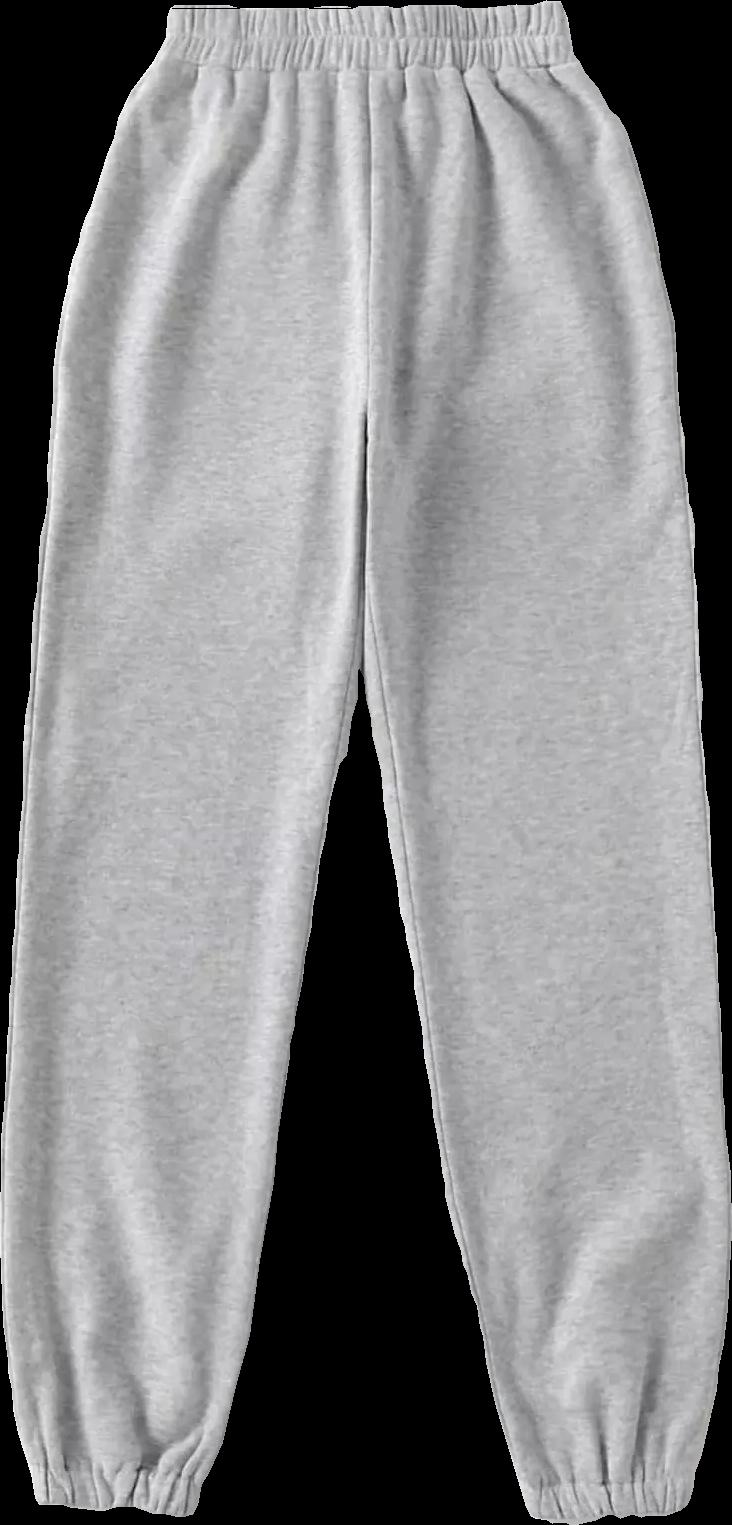Hemline: (29, 1489, 201, 1523), (522, 1491, 697, 1524)
Pantleg: (356, 0, 731, 1524), (0, 0, 370, 1518)
Waistline: (146, 46, 585, 88), (166, 0, 562, 25)
